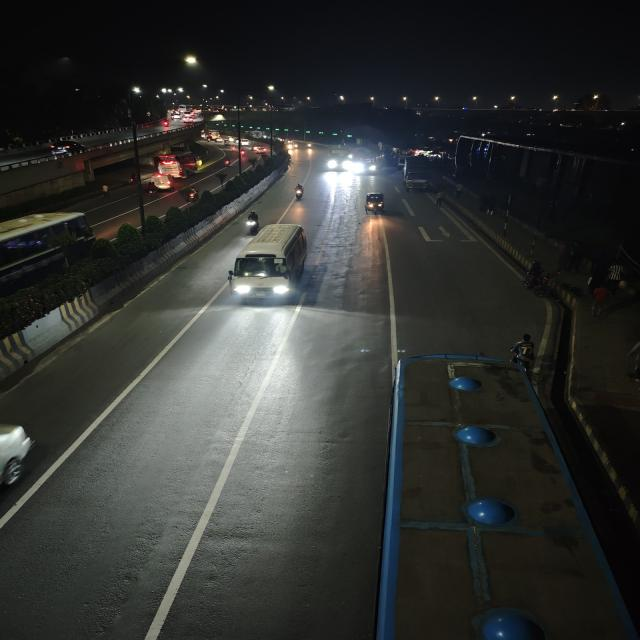bus: (382, 349, 559, 640), (0, 209, 97, 305), (228, 222, 314, 310), (153, 150, 203, 178), (347, 142, 383, 176), (325, 146, 348, 172)
car: (0, 417, 43, 507), (48, 140, 88, 157), (148, 176, 176, 192), (254, 145, 268, 155)
cng: (361, 190, 388, 218)
motorcycle: (521, 260, 556, 300), (240, 209, 262, 235), (291, 181, 307, 203), (183, 185, 201, 203), (222, 156, 233, 168), (239, 149, 246, 158)
truck: (400, 157, 431, 194)
